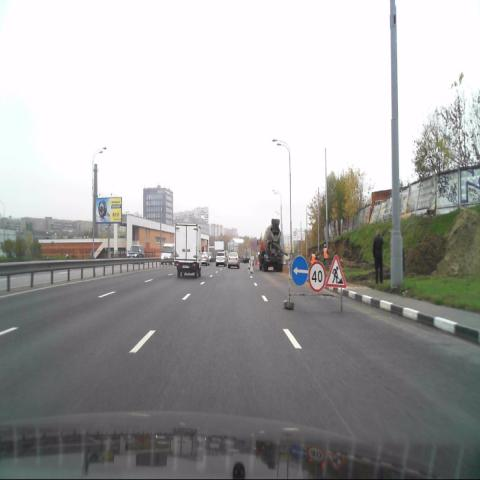1_25: (326, 254, 346, 287)
3_24: (308, 261, 326, 292)
4_1_2_2: (291, 255, 308, 286)
